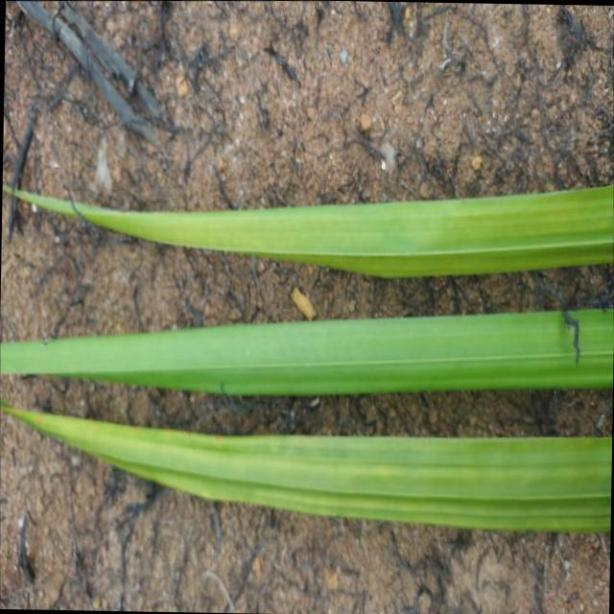nitrogen: (9, 403, 614, 555), (0, 182, 614, 280), (0, 306, 614, 397)
